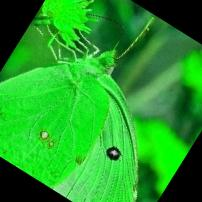butterfly: (0, 53, 138, 202)
